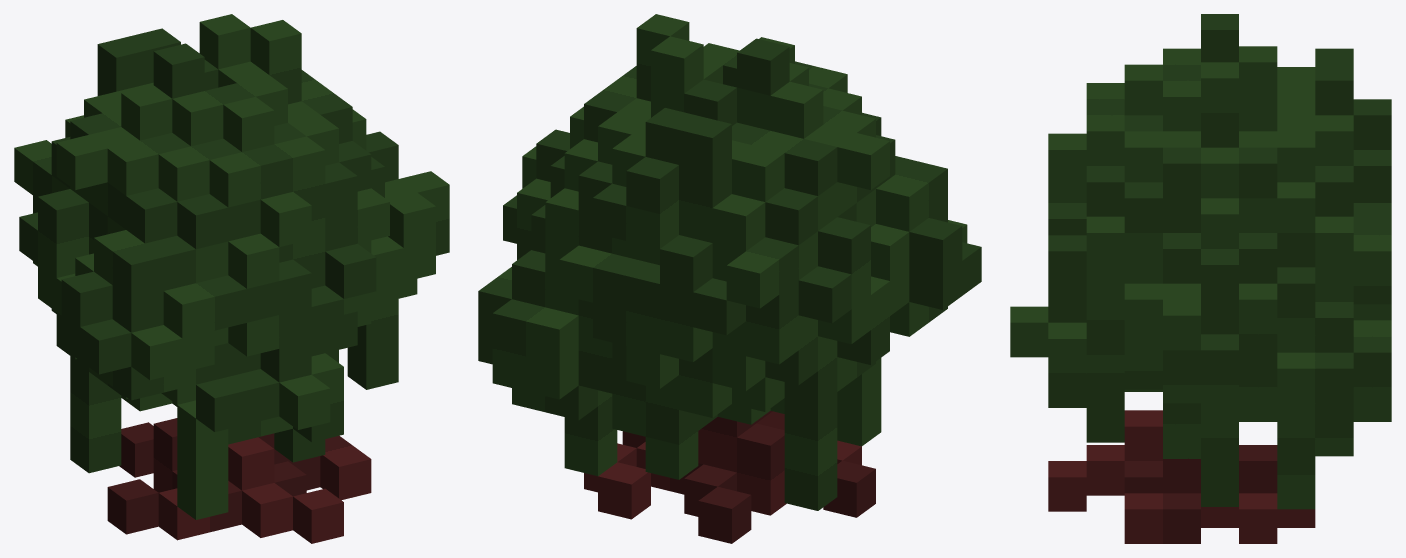
The model's file is drzewko_04.dae.
The picture shows the model from 3 angles, left to right: view 1: azimuth 30°, elevation 25°; view 2: azimuth 150°, elevation 25°; view 3: azimuth 270°, elevation 25°; orthographic projection. The views are drawn at different scales.
Parts seen in each view (by area): view 1: Content; view 2: Content; view 3: Content.
Boxes of the visible parts, bbox=[...] form: Content: bbox=[14, 14, 449, 543]; Content: bbox=[478, 14, 981, 543]; Content: bbox=[1010, 14, 1391, 543].
Size of the model in its own units: 12 by 13 by 10.
Materials: 1 (1 with a texture image).
